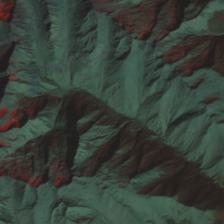landslides: (117, 120, 132, 130)
